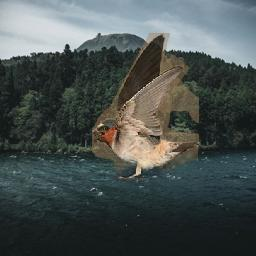Swallow: (93, 34, 200, 181)
